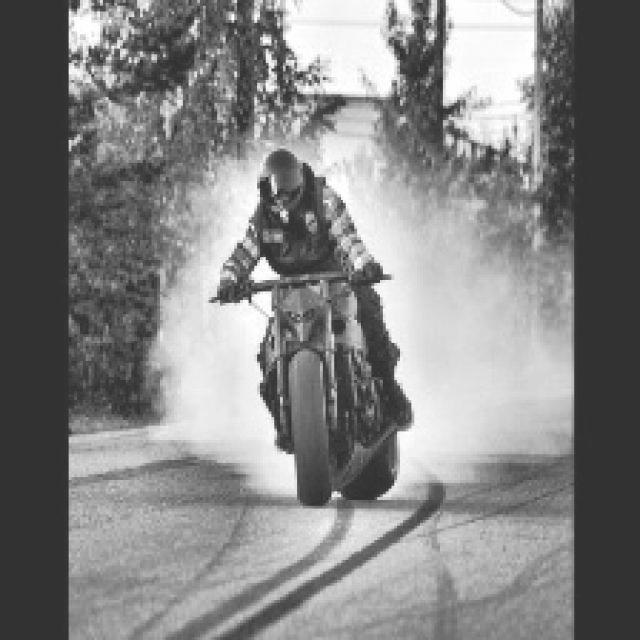Bike: (253, 256, 403, 520)
